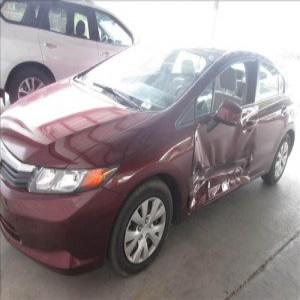door: (193, 120, 266, 193)
